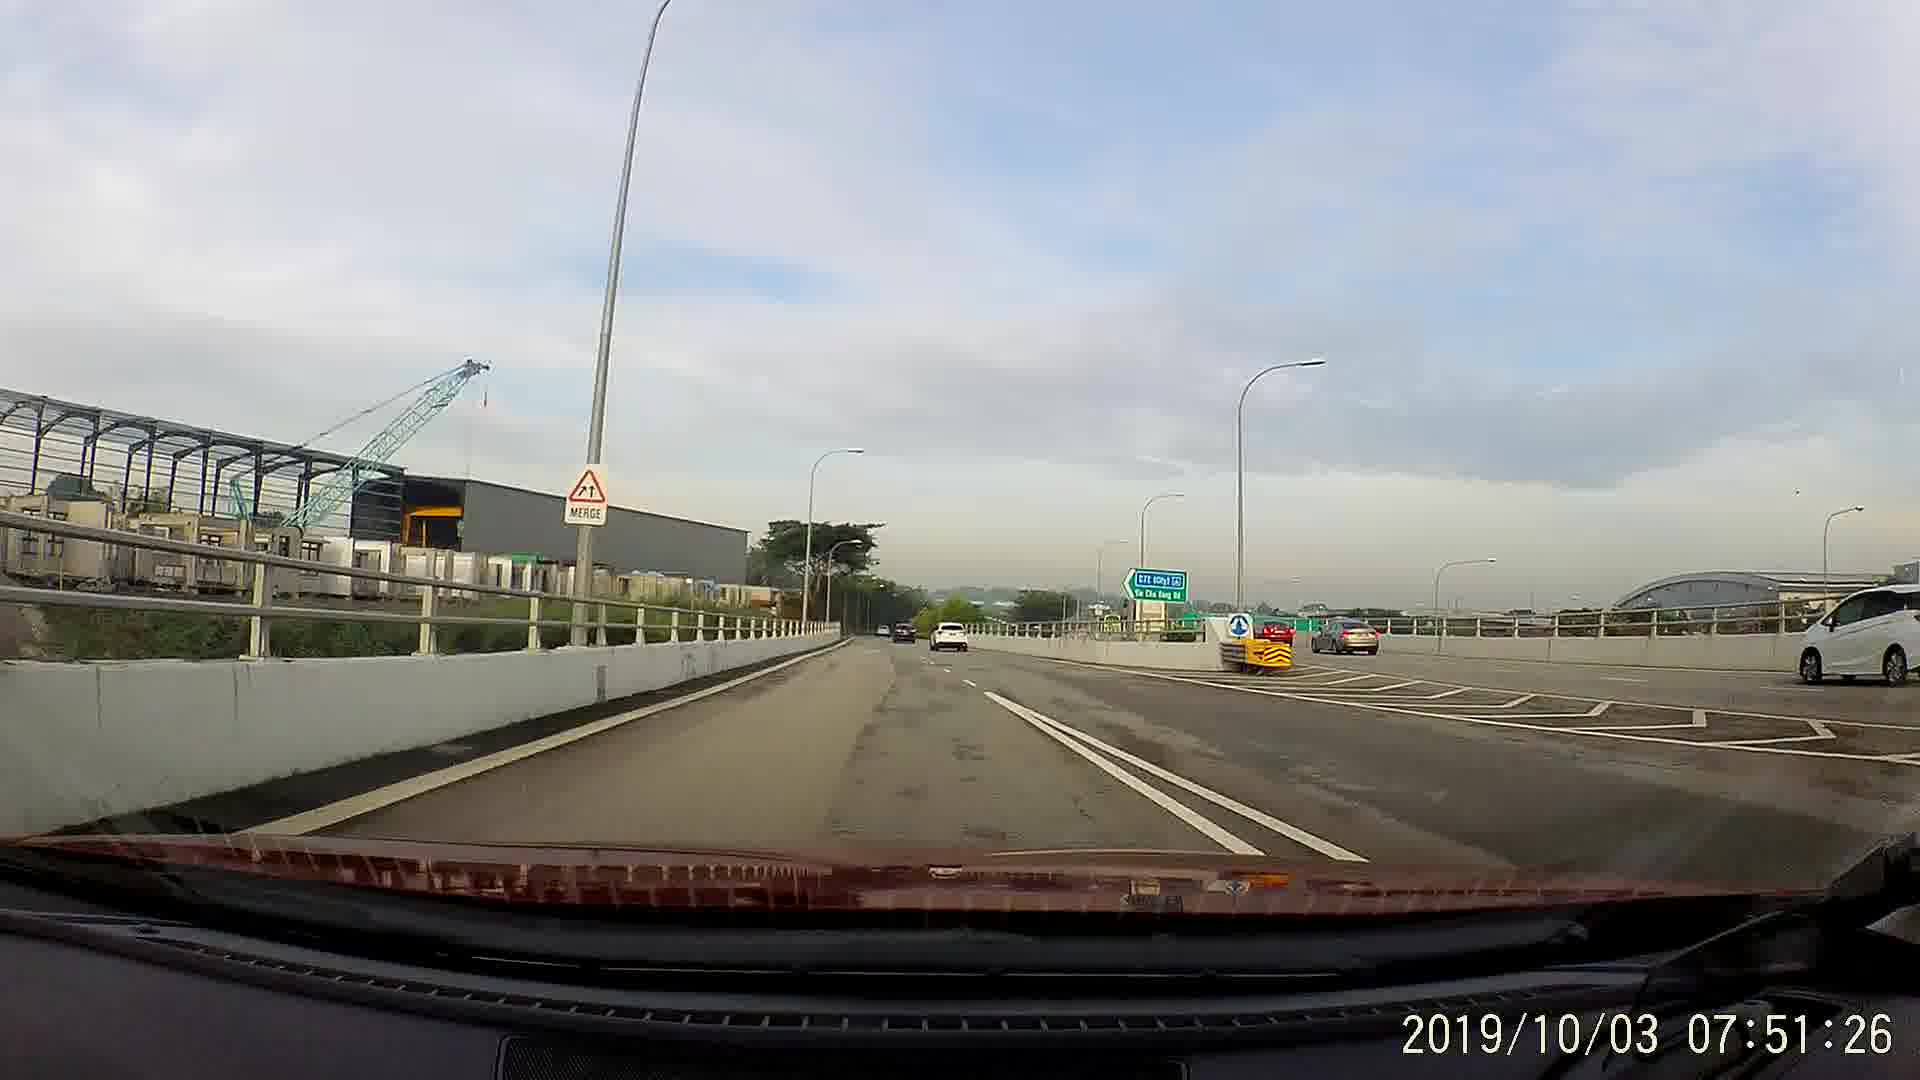car: (1800, 583, 1919, 687), (1309, 617, 1385, 655), (928, 620, 971, 649), (1257, 617, 1299, 645), (872, 618, 893, 640), (895, 625, 918, 645)
